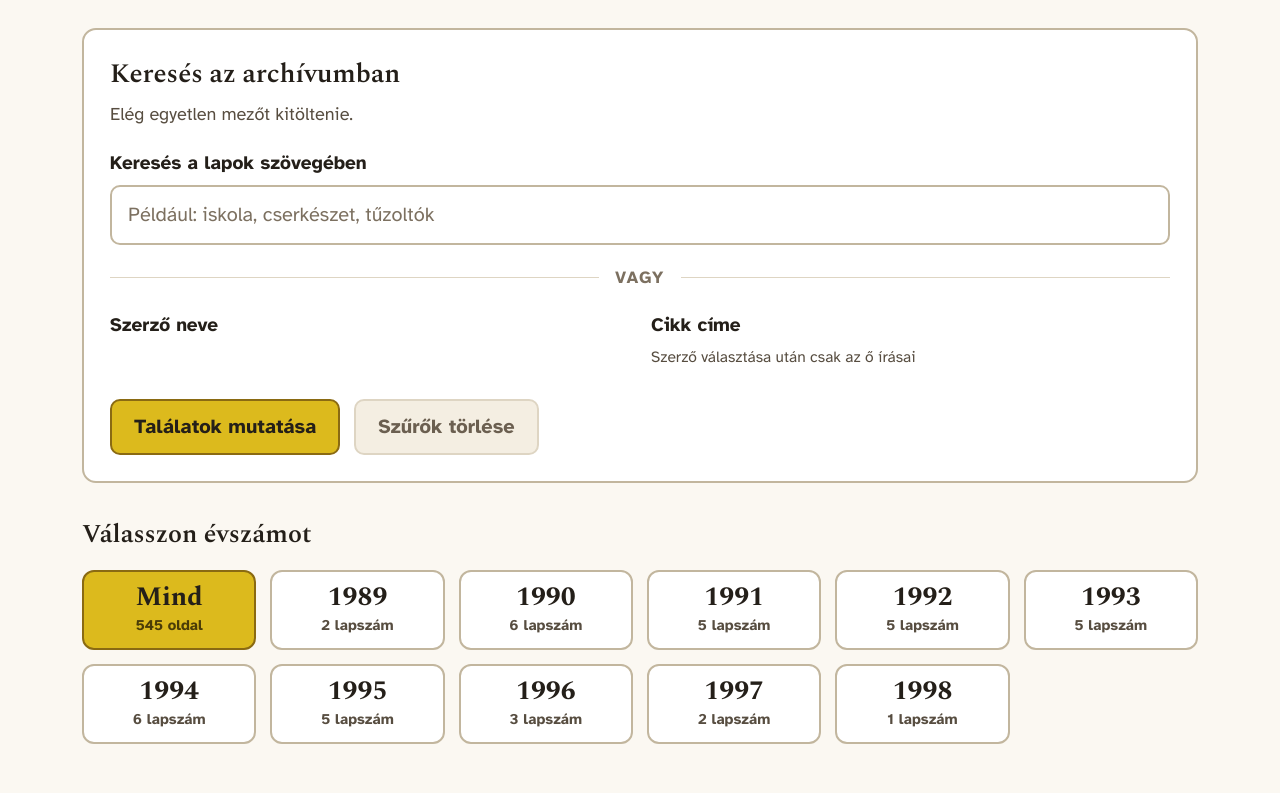
Scenario: ImageGallery › debounces a search, lazily fetches the index, then reports no results
The image size is (1280, 793).
Type "zzzznincsilyen" into the field labelled "Keresés a lapok szövegében".
click(640, 215); type("zzzznincsilyen")  # box [110, 185, 1170, 245]
Wait 300 ms
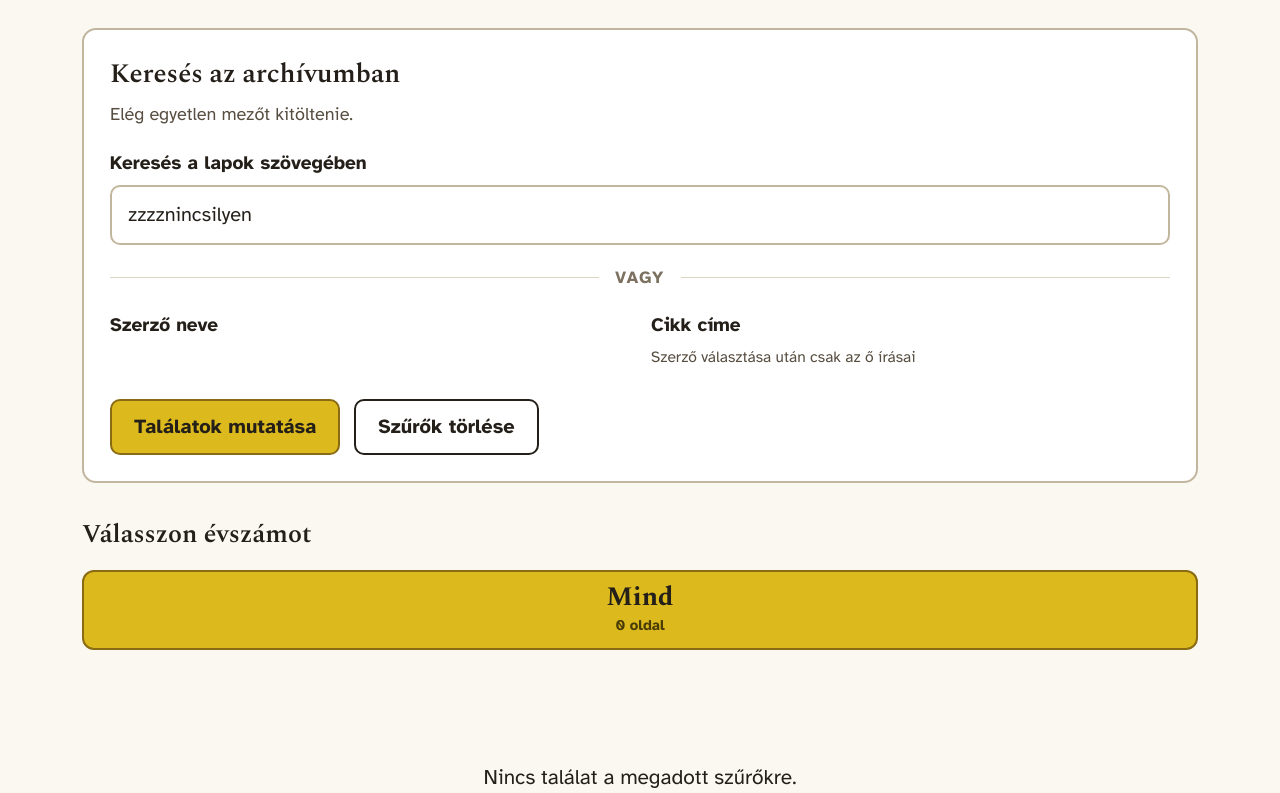
Check: the button "Szűrők törlése" is shown, box [354, 399, 539, 455]
Check: the text "Nincs találat a megadott szűrőkre." is shown, box [484, 764, 796, 790]
